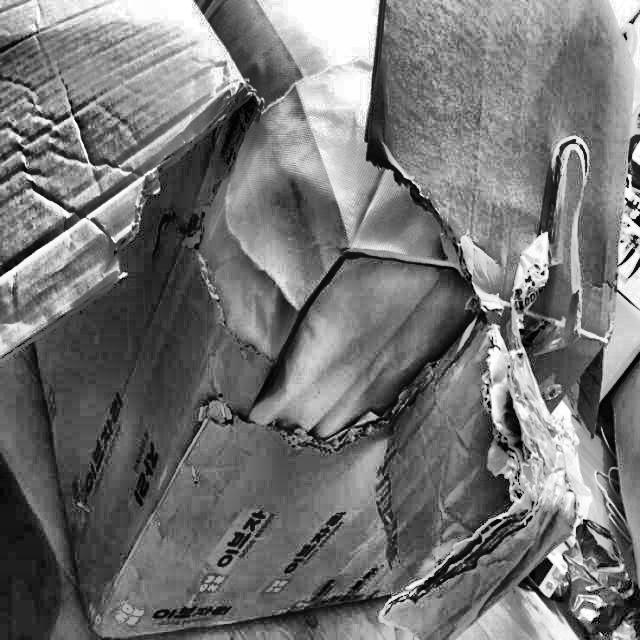box: (0, 0, 637, 639)
hole: (188, 92, 491, 508)
